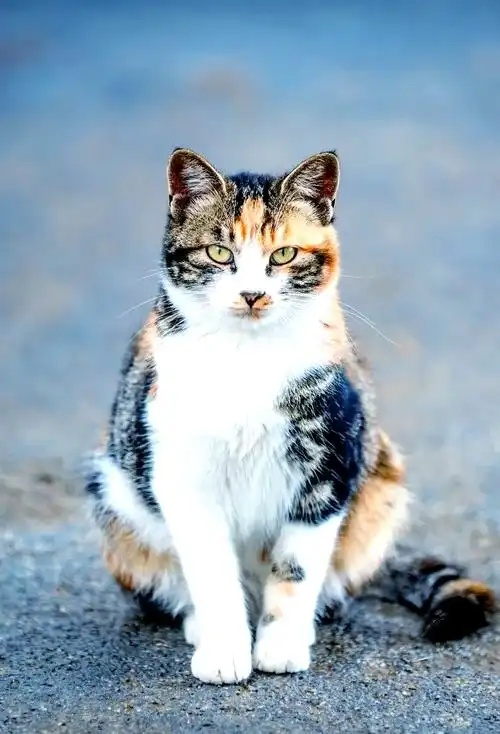三花猫: (87, 148, 369, 522)
